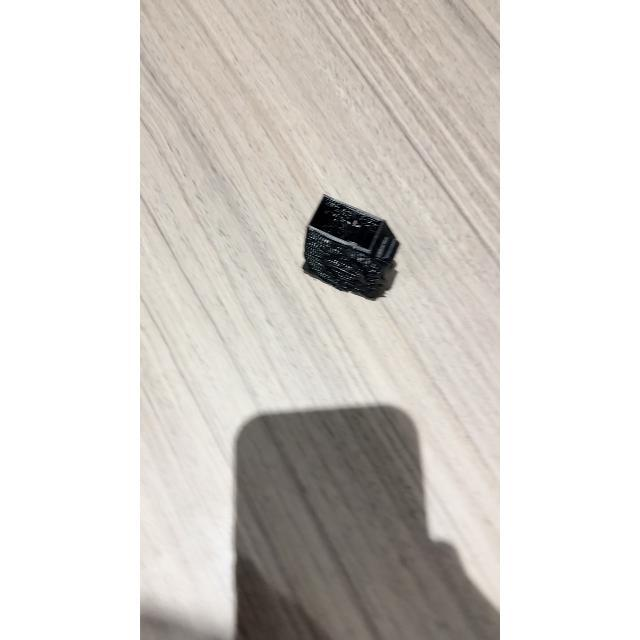Pieza3: (296, 190, 408, 310)
